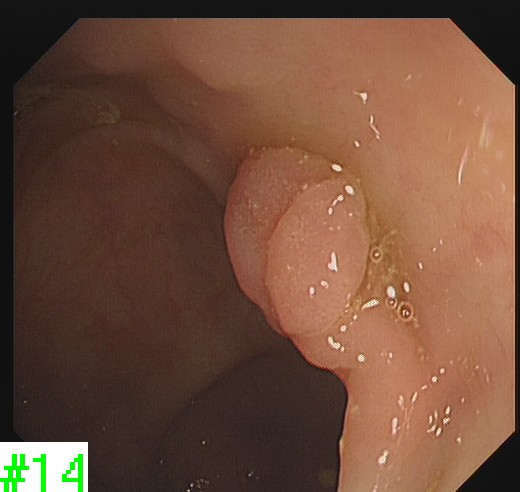others: (219, 141, 377, 372)
